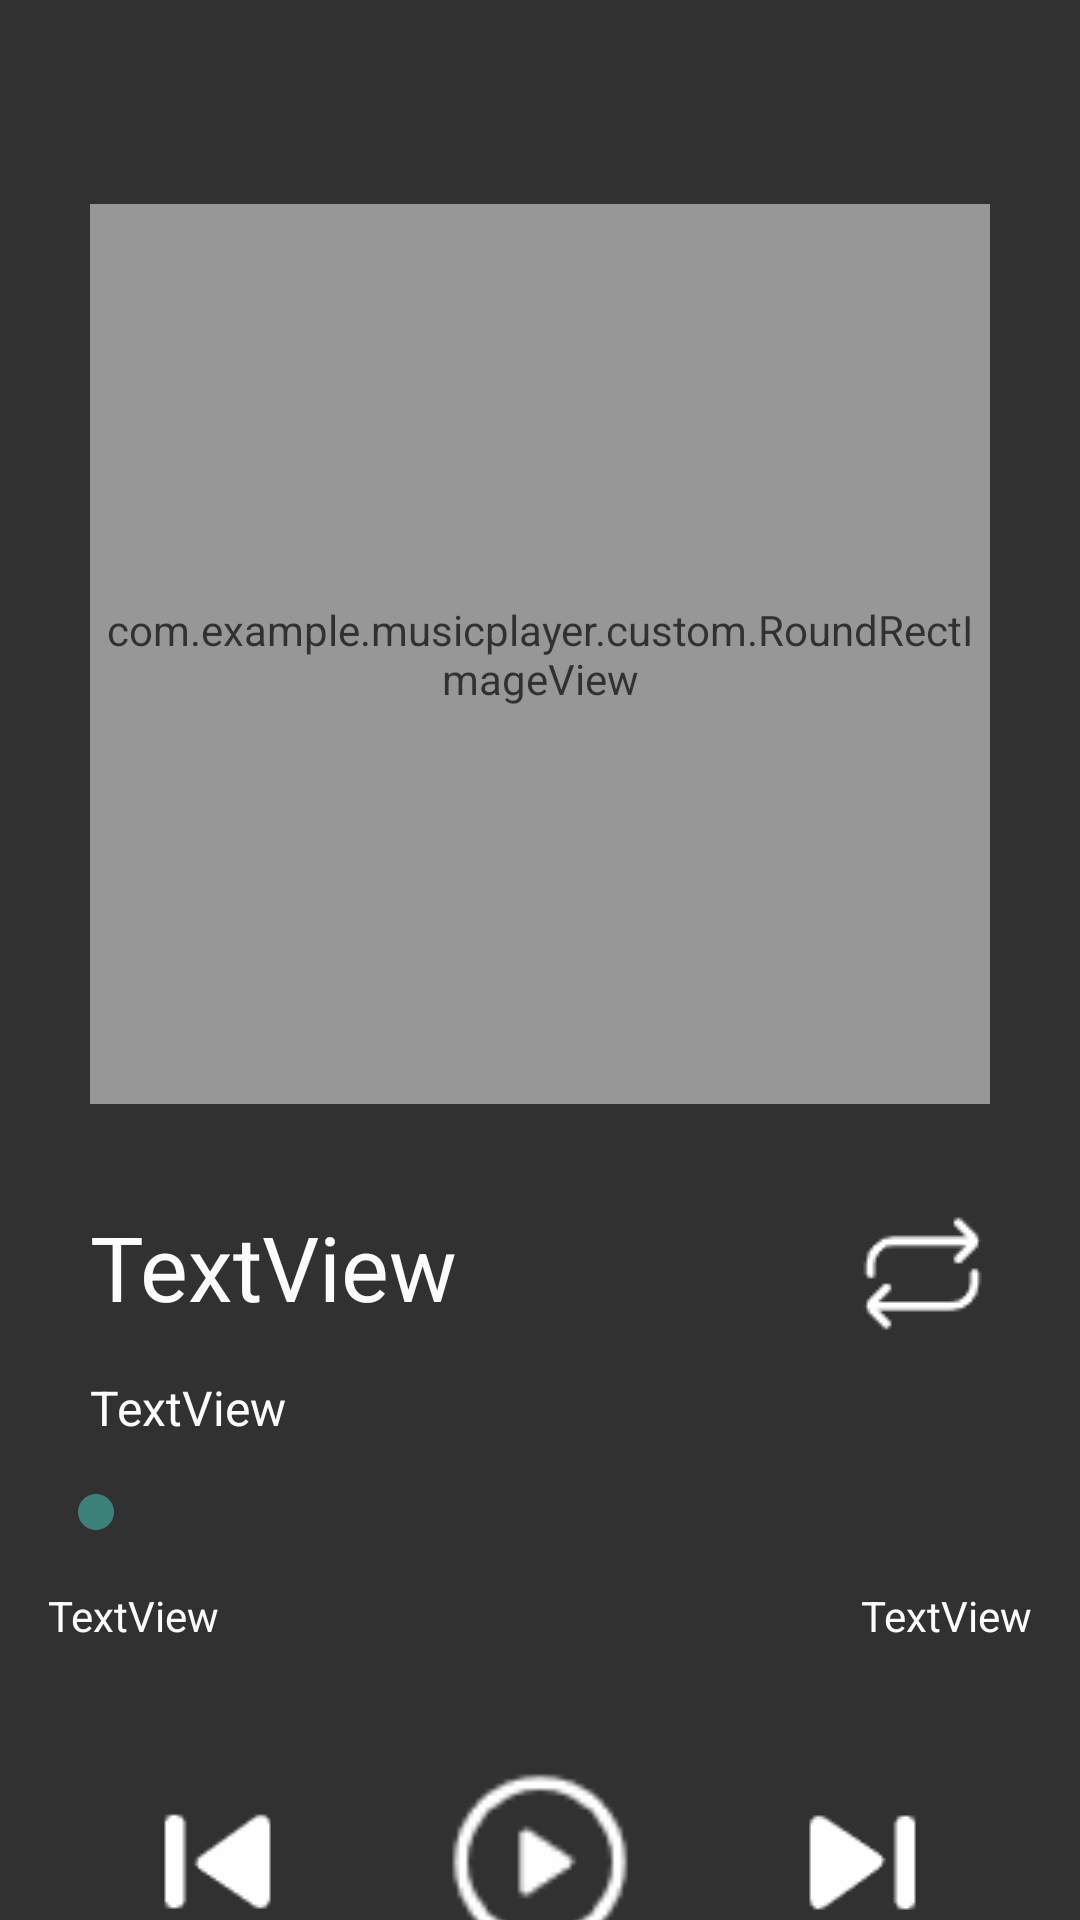

Screen size 1080px×1920px. Icon name, then its box in pixels as (x1,y1,x2,y2):
last music: (164,1814,271,1909)
loop: (864,1217,981,1330)
next music: (809,1815,916,1910)
